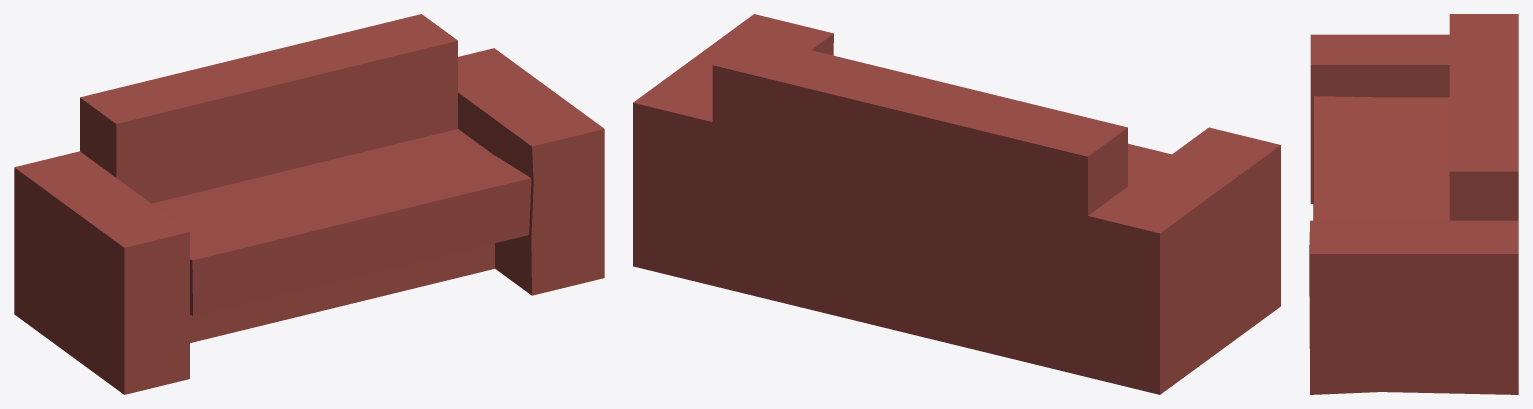
Rendered from sofa.fbx.
3 views of the same model, side by side, from view 1: azimuth 30°, elevation 25°; view 2: azimuth 150°, elevation 25°; view 3: azimuth 270°, elevation 25° (orthographic). The views are drawn at different scales.
Parts seen in each view (by area): view 1: Cube; view 2: Cube; view 3: Cube.
Part boxes in pixels (<box>): Cube: <box>14,14,604,394</box>; Cube: <box>633,14,1280,394</box>; Cube: <box>1309,14,1518,394</box>.
Bounding box in the file's own units: 250 × 100 × 100.
